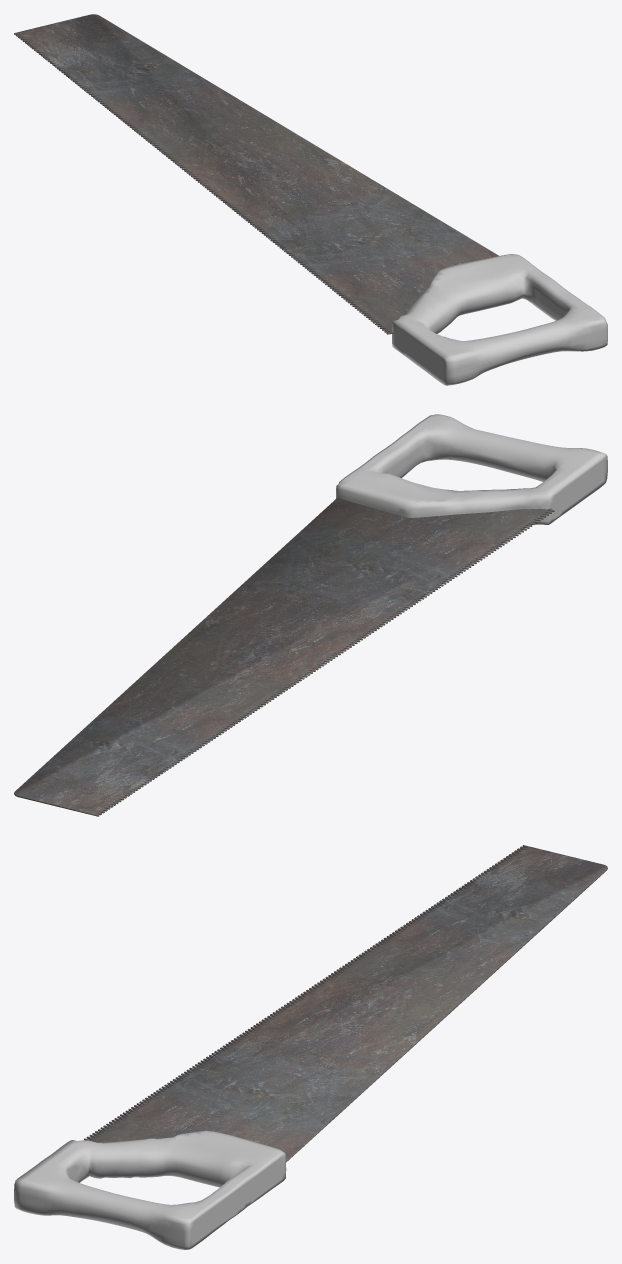
The model's file is SM_Saw.fbx.
3 renders of one model, top to bottom at view 1: azimuth 30°, elevation 25°; view 2: azimuth 150°, elevation 25°; view 3: azimuth 330°, elevation 25°, orthographic. The views are drawn at different scales.
Parts seen in each view (by area): view 1: SM_Saw_LOD0; view 2: SM_Saw_LOD0; view 3: SM_Saw_LOD0.
Boxes of the visible parts, bbox=[...] form: SM_Saw_LOD0: bbox=[14, 14, 607, 385]; SM_Saw_LOD0: bbox=[14, 414, 607, 816]; SM_Saw_LOD0: bbox=[14, 845, 607, 1249].
Bounding box in the file's own units: 17.1 × 80.68 × 2.8.
